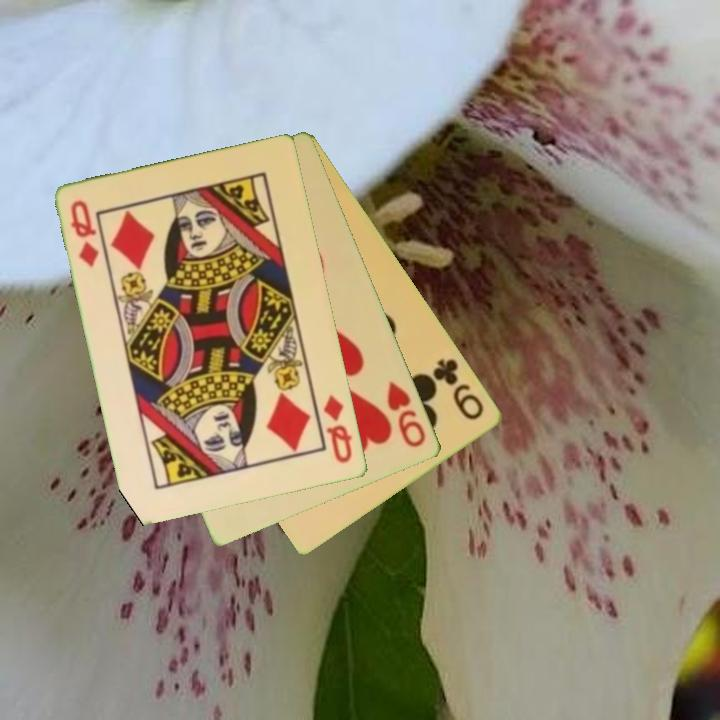9c: (430, 355, 487, 424)
9h: (384, 378, 430, 451)
Qd: (320, 391, 356, 467), (67, 196, 103, 270)
